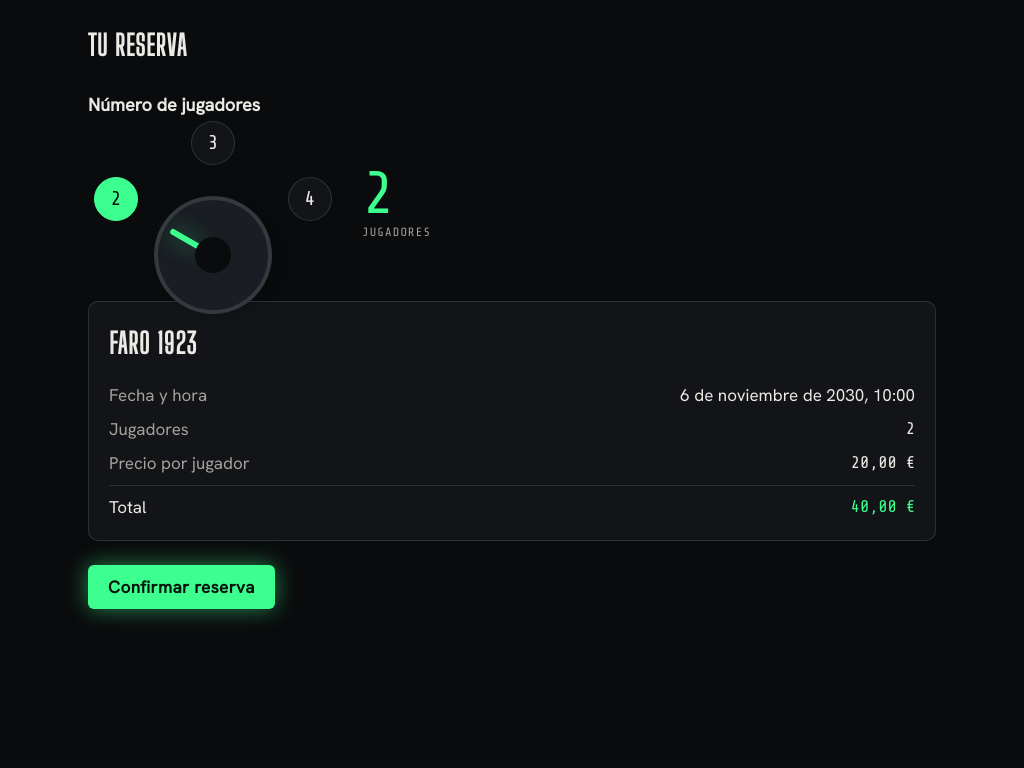
Test: CheckoutPage › shows its own message for ROOM_INACTIVE
This screenshot has width=1024, height=768.
Step 1. Click the button "Confirmar reserva" → coordinates (181, 587), box [88, 565, 275, 609]
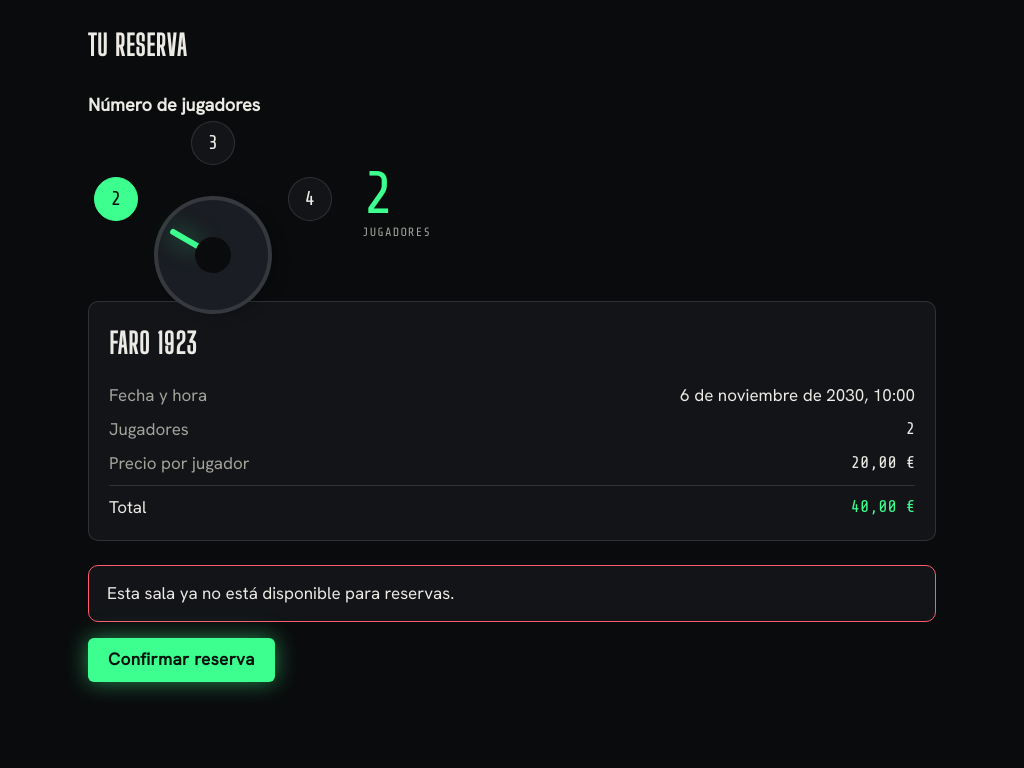
Expected: the message reads "Esta sala ya no está disponible para reservas.", [107, 582, 454, 604]
